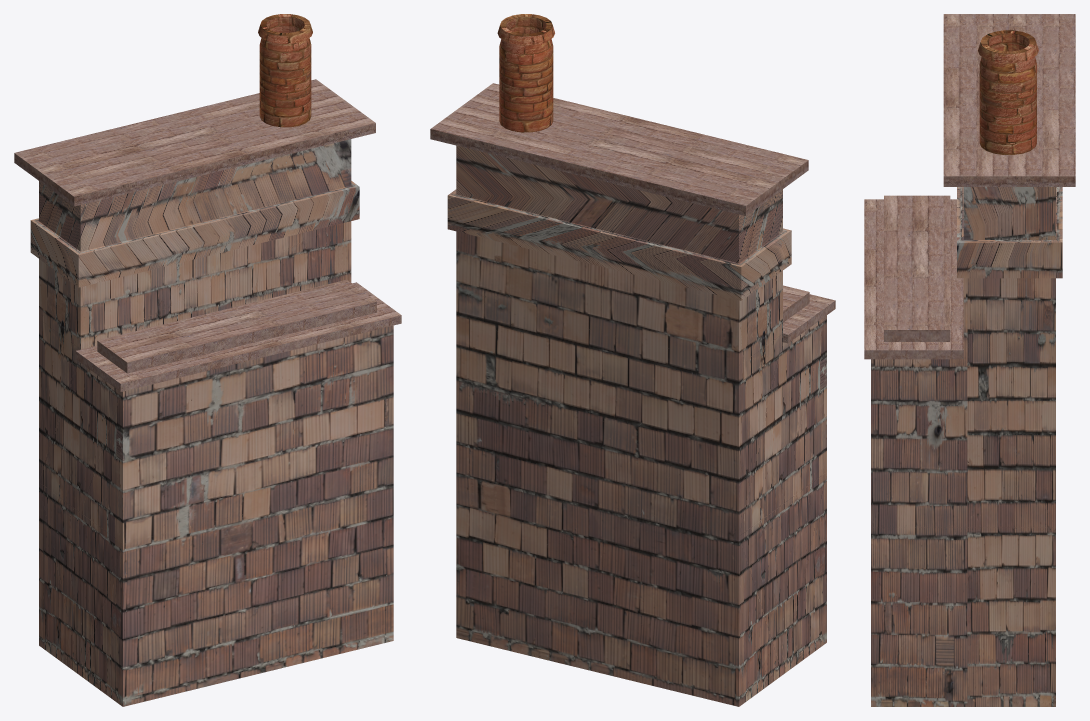
Rendered from Chimney - Textured.fbx.
3 renders of one model, left to right at view 1: azimuth 30°, elevation 25°; view 2: azimuth 150°, elevation 25°; view 3: azimuth 270°, elevation 25°, orthographic. The views are drawn at different scales.
Parts seen in each view (by area): view 1: Chimney Place, Chimney; view 2: Chimney Place, Chimney; view 3: Chimney Place, Chimney.
Part boxes in pixels (x1,y1,x2,y2): Chimney Place: (14,79,401,706); Chimney: (258,14,312,127); Chimney Place: (430,83,835,706); Chimney: (497,14,554,132); Chimney Place: (864,14,1075,706); Chimney: (978,30,1038,154).
Bounding box in the file's own units: 4.76 × 8.77 × 2.63.
Materials: 4 (4 with a texture image).
